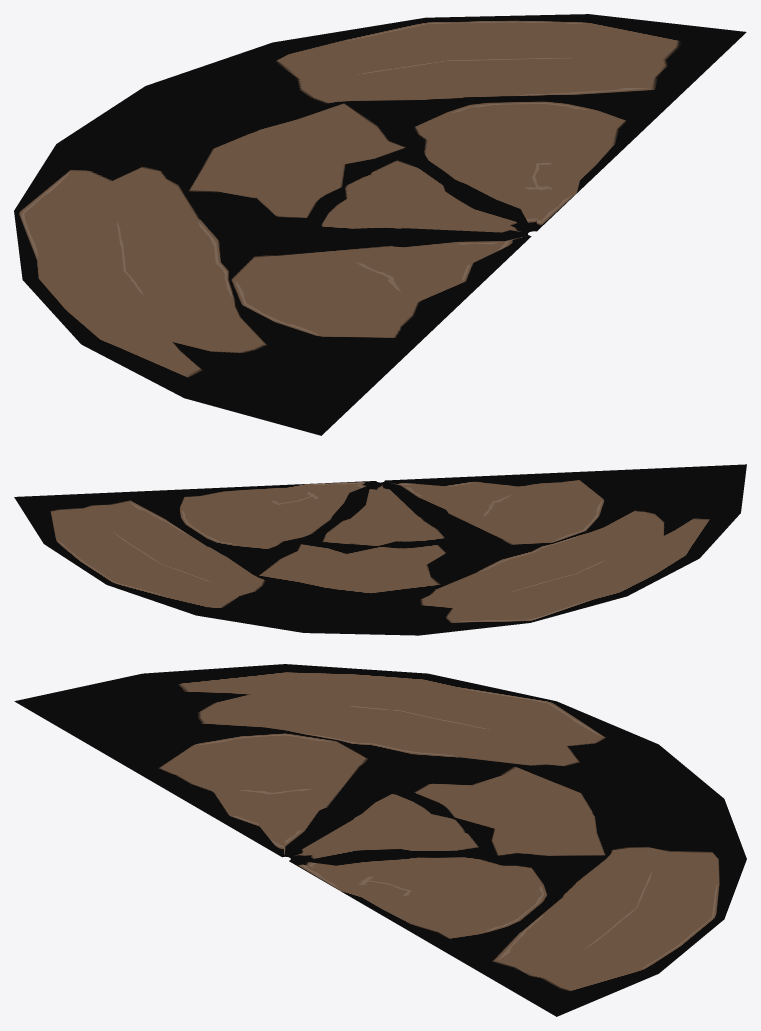
Rendered from WaterfallImpact.fbx.
The picture shows the model from 3 angles, top to bottom: view 1: azimuth 30°, elevation 25°; view 2: azimuth 150°, elevation 25°; view 3: azimuth 270°, elevation 25°; orthographic projection. The views are drawn at different scales.
Parts seen in each view (by area): view 1: pCylinder81; view 2: pCylinder81; view 3: pCylinder81.
Part boxes in pixels (left/top/right/bottom): pCylinder81: left=14, top=14, right=746, bottom=435; pCylinder81: left=14, top=464, right=746, bottom=635; pCylinder81: left=14, top=664, right=746, bottom=1016.
Size of the model in its own units: 13.58 by 1.3e-05 by 11.92.
